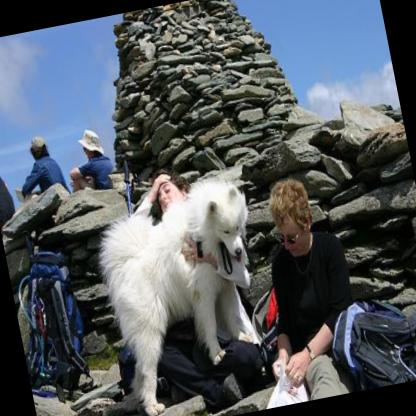Samoyed: (83, 167, 282, 416)
